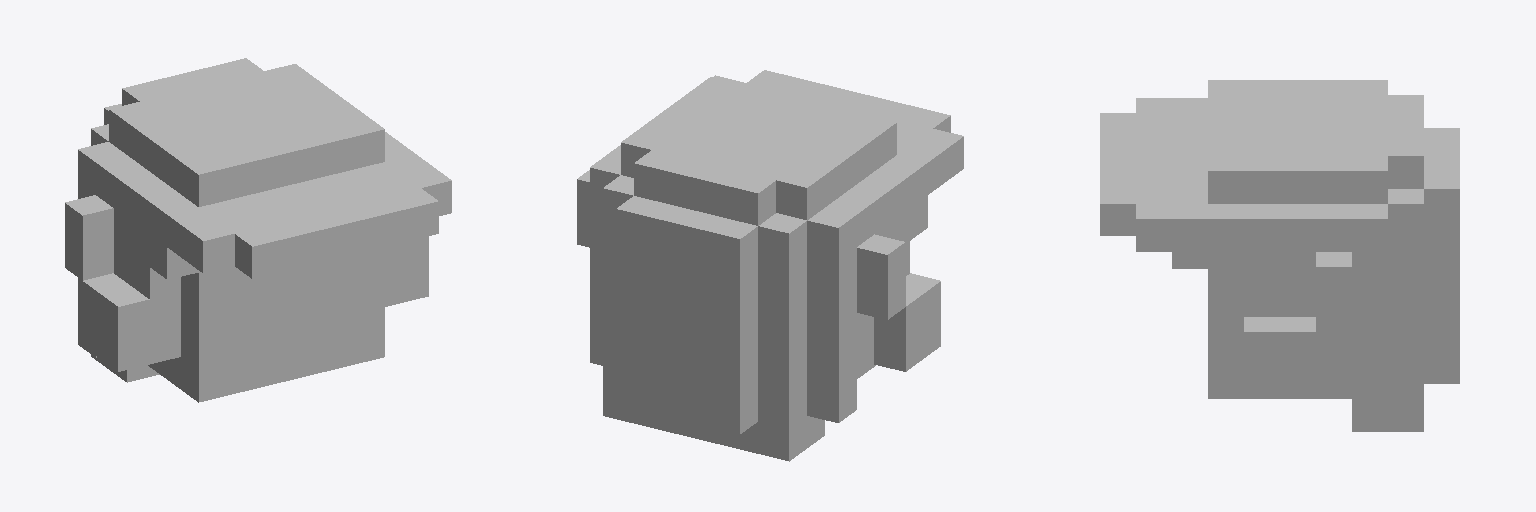
Rendered from Cave Story - Quote (Head).obj.
3 views of the same model, side by side, from view 1: azimuth 30°, elevation 25°; view 2: azimuth 150°, elevation 25°; view 3: azimuth 270°, elevation 25° (orthographic).
Visible parts, largest first — view 1: Head; view 2: Head; view 3: Head.
Boxes of the visible parts, x1=… form: Head: x1=65, y1=58, x2=451, y2=402; Head: x1=577, y1=70, x2=963, y2=461; Head: x1=1100, y1=80, x2=1459, y2=431.
Bounding box in the file's own units: 10 × 8 × 10.